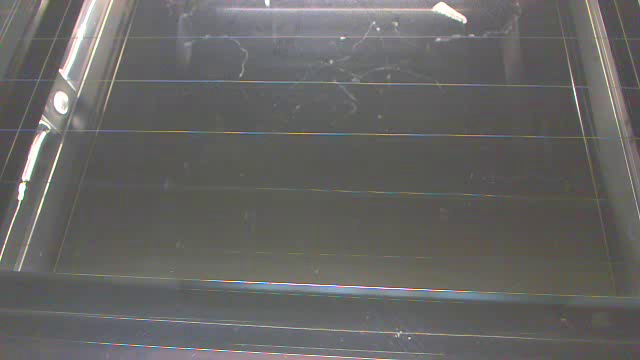alpha: (431, 1, 470, 28)
